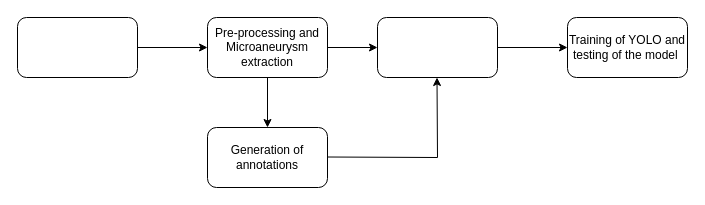
Image size: 705x205. Some labels were removed from this diagram. The centre of each missing label's shape, as x and y in pixels:
EyePacs dataset: point (77, 47)
Splitting into training and testing: point (437, 47)
